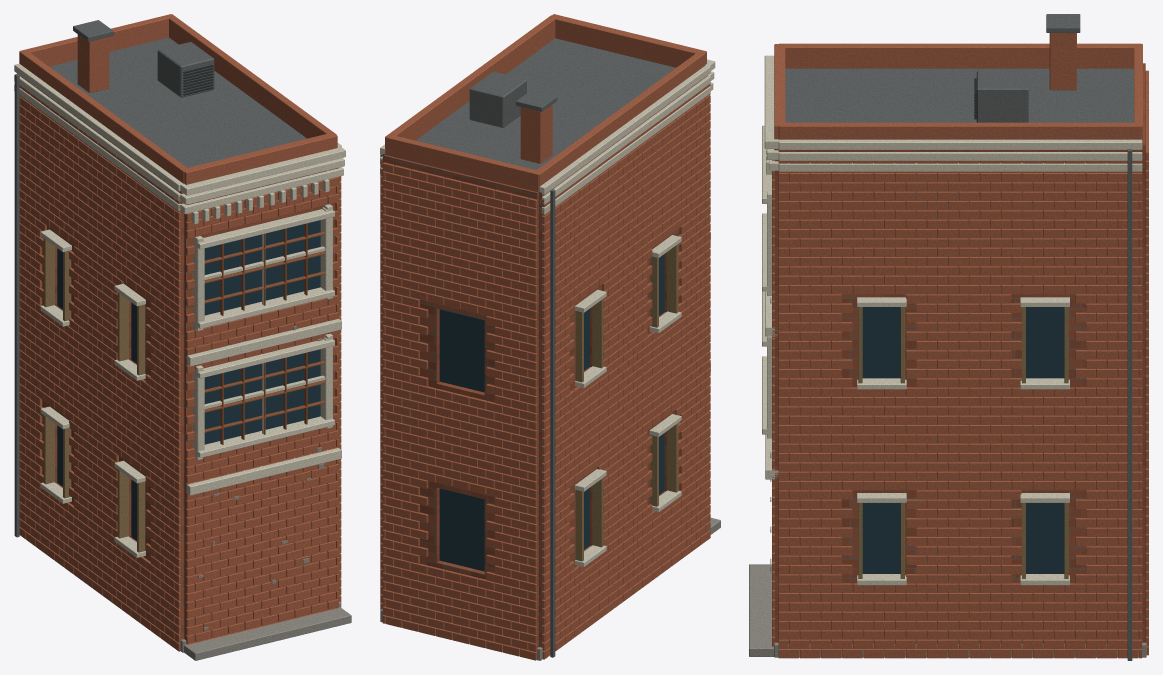
The model's file is WRHS3_lod0.glb.
3 renders of one model, left to right at view 1: azimuth 30°, elevation 25°; view 2: azimuth 150°, elevation 25°; view 3: azimuth 270°, elevation 25°, orthographic. The views are drawn at different scales.
Parts seen in each view (by area): view 1: WRHS3_LOD0; view 2: WRHS3_LOD0; view 3: WRHS3_LOD0.
Part boxes in pixels (box(x1,y1,x2,y2)): WRHS3_LOD0: box(14, 14, 351, 660); WRHS3_LOD0: box(380, 14, 720, 660); WRHS3_LOD0: box(749, 14, 1148, 660).
Bounding box in the file's own units: 3.71 × 10.45 × 6.6.
Materials: 12 (10 with a texture image).
